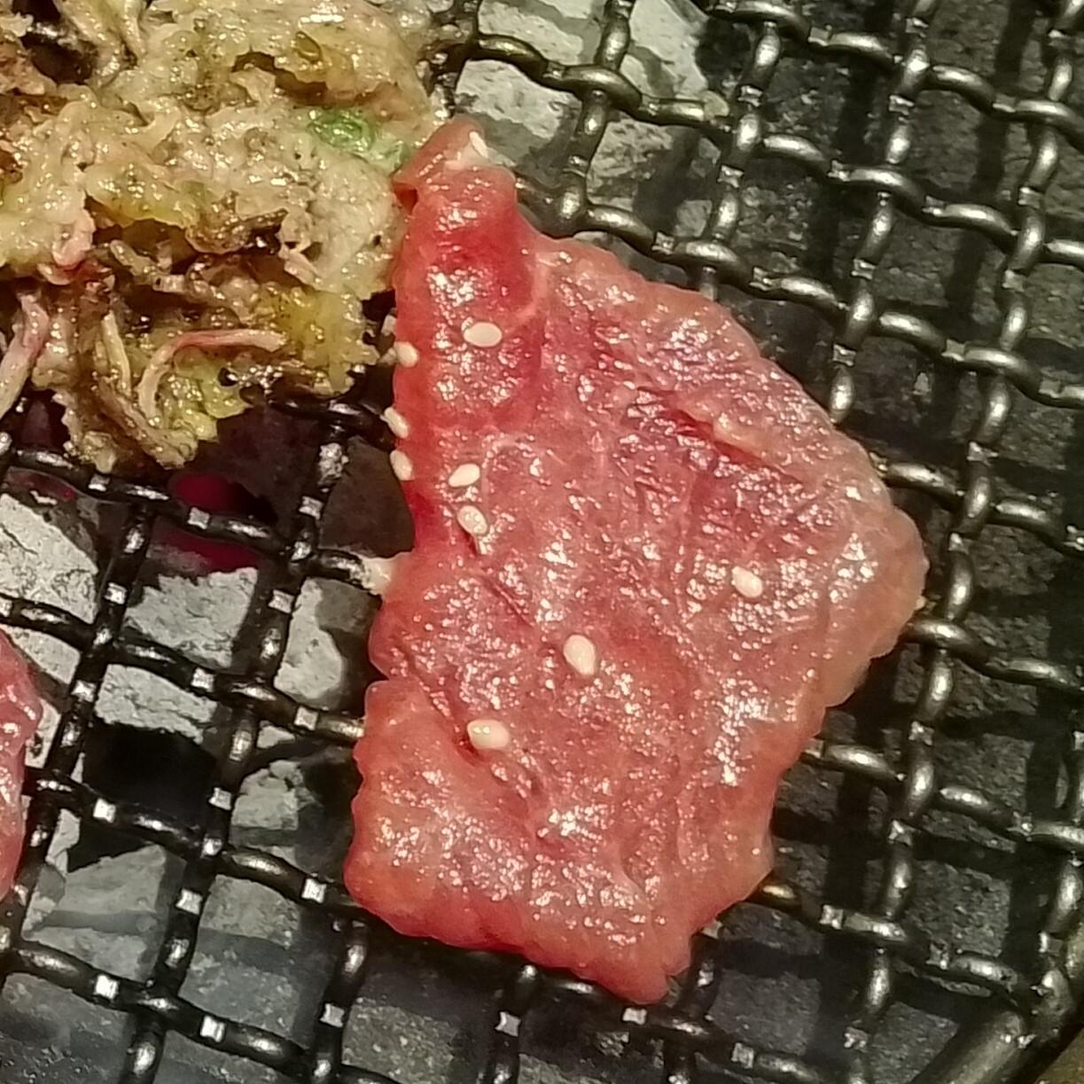Undercooked: (340, 121, 929, 1010)
Well-Cooked: (0, 0, 432, 459)
